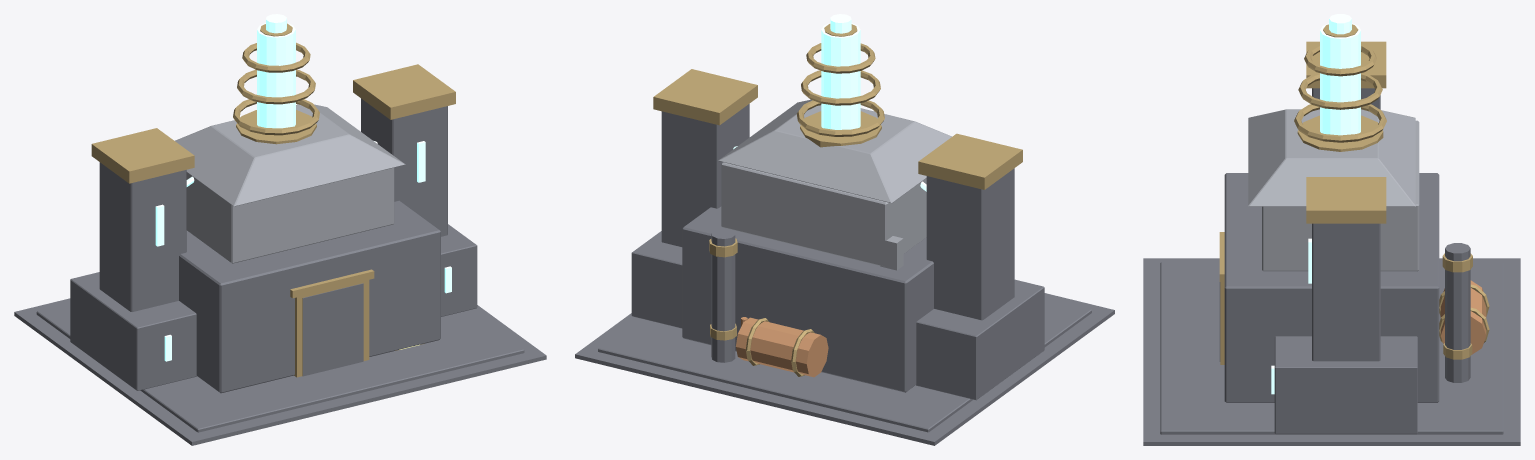
File: gearforge_hq_command.glb
3 renders of one model, left to right at view 1: azimuth 30°, elevation 25°; view 2: azimuth 150°, elevation 25°; view 3: azimuth 270°, elevation 25°, orthographic. The views are drawn at different scales.
Parts seen in each view (by area): view 1: gearforge_hq_command_dark_iron_lod0, gearforge_hq_command_steel_lod0, gearforge_hq_command_brass_lod0, gearforge_hq_command_aether_glow_lod0; view 2: gearforge_hq_command_dark_iron_lod0, gearforge_hq_command_steel_lod0, gearforge_hq_command_brass_lod0, gearforge_hq_command_aether_glow_lod0, gearforge_hq_command_copper_lod0; view 3: gearforge_hq_command_dark_iron_lod0, gearforge_hq_command_steel_lod0, gearforge_hq_command_brass_lod0, gearforge_hq_command_aether_glow_lod0, gearforge_hq_command_copper_lod0.
Part boxes in pixels (left/top/right/bottom): gearforge_hq_command_dark_iron_lod0: left=14, top=98, right=546, bottom=445; gearforge_hq_command_steel_lod0: left=175, top=104, right=405, bottom=263; gearforge_hq_command_brass_lod0: left=91, top=23, right=455, bottom=377; gearforge_hq_command_aether_glow_lod0: left=155, top=14, right=451, bottom=361; gearforge_hq_command_dark_iron_lod0: left=575, top=104, right=1114, bottom=445; gearforge_hq_command_steel_lod0: left=718, top=99, right=951, bottom=270; gearforge_hq_command_brass_lod0: left=653, top=24, right=1022, bottom=376; gearforge_hq_command_aether_glow_lod0: left=733, top=14, right=926, bottom=191; gearforge_hq_command_copper_lod0: left=735, top=317, right=828, bottom=377; gearforge_hq_command_dark_iron_lod0: left=1143, top=88, right=1520, bottom=445; gearforge_hq_command_steel_lod0: left=1248, top=109, right=1419, bottom=271; gearforge_hq_command_brass_lod0: left=1219, top=24, right=1489, bottom=364; gearforge_hq_command_aether_glow_lod0: left=1271, top=14, right=1360, bottom=394; gearforge_hq_command_copper_lod0: left=1440, top=280, right=1486, bottom=354.
Bounding box in the file's own units: 15.2 × 12.95 × 13.2.
